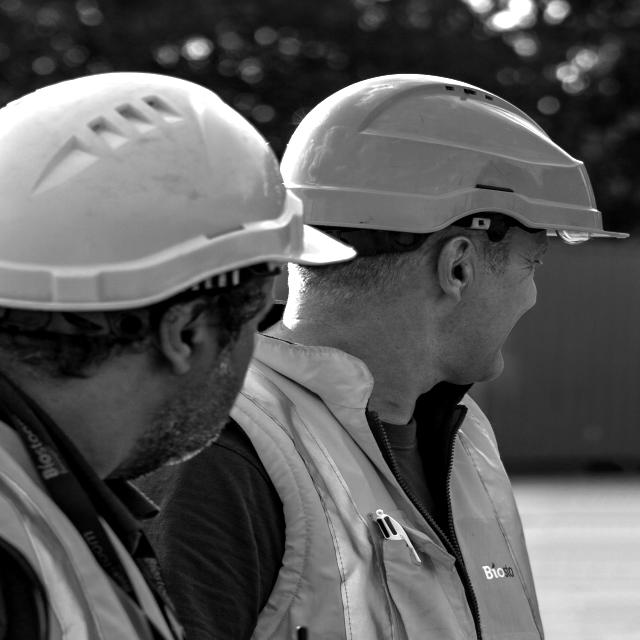Vest: (190, 391, 548, 640), (1, 428, 181, 640)
